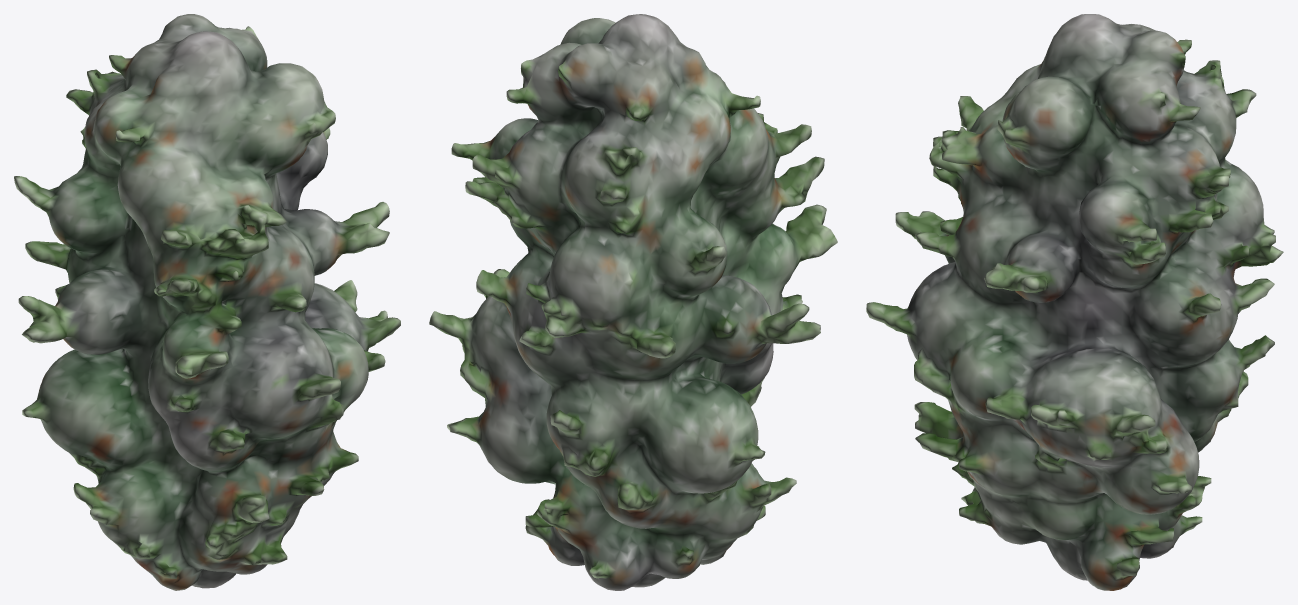
Rendered from nug_63fc8dc5.obj.
3 views of the same model, side by side, from view 1: azimuth 30°, elevation 25°; view 2: azimuth 150°, elevation 25°; view 3: azimuth 270°, elevation 25° (orthographic). The views are drawn at different scales.
Size of the model in its own units: 1.8 by 2.66 by 1.8.
